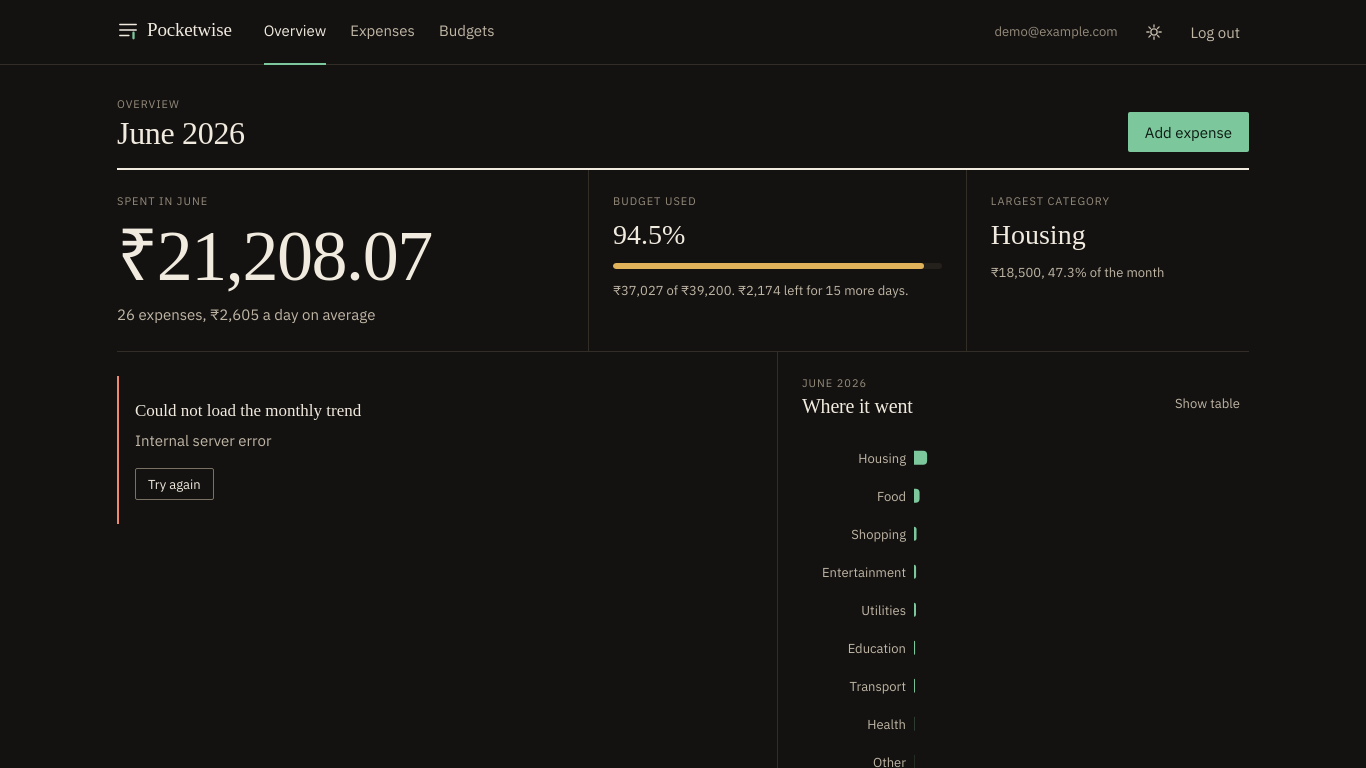
Test case: dashboard states › shows an error in the one region that failed and keeps the rest working
Check: the message shows "Could not load the monthly trend", box [135,401,361,420]
Check: the message shows "Internal server error", box [135,431,271,450]
Click the button "Try again".
click(174, 484)  # box [135,468,214,500]
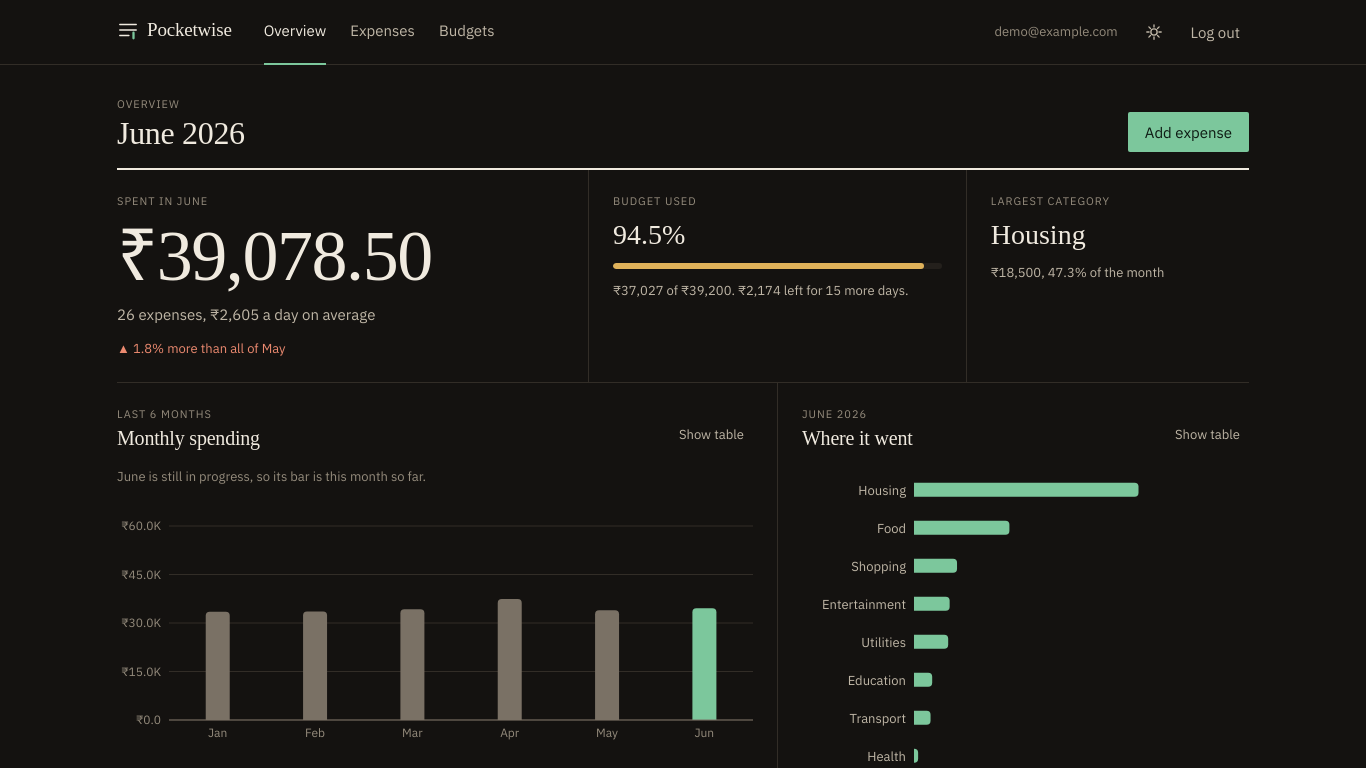
Check: the heading "Monthly spending" is shown, box [117,426,260,451]
Check: the message "Could not load the monthly trend Internal server error Try again" is gone
